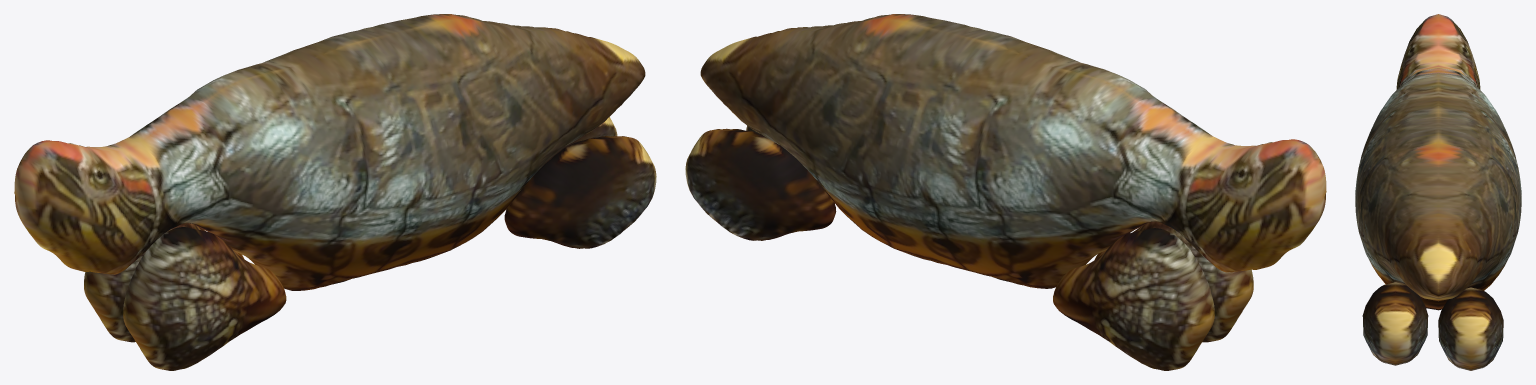
The model's file is mm_project.glb.
The picture shows the model from 3 angles, left to right: view 1: azimuth 30°, elevation 25°; view 2: azimuth 150°, elevation 25°; view 3: azimuth 270°, elevation 25°; orthographic projection. The views are drawn at different scales.
Bounding box in the file's own units: 4.36 × 1.75 × 1.32.
Materials: 1 (1 with a texture image).
